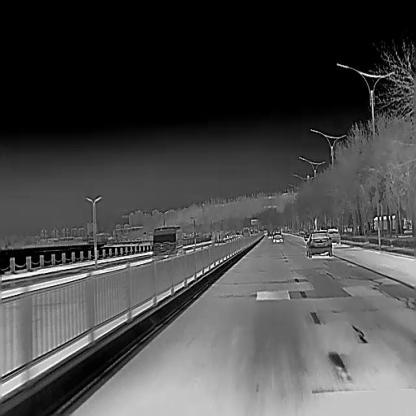car: (151, 224, 184, 260), (305, 230, 333, 258), (326, 228, 341, 244), (272, 231, 283, 243), (241, 226, 251, 237)
